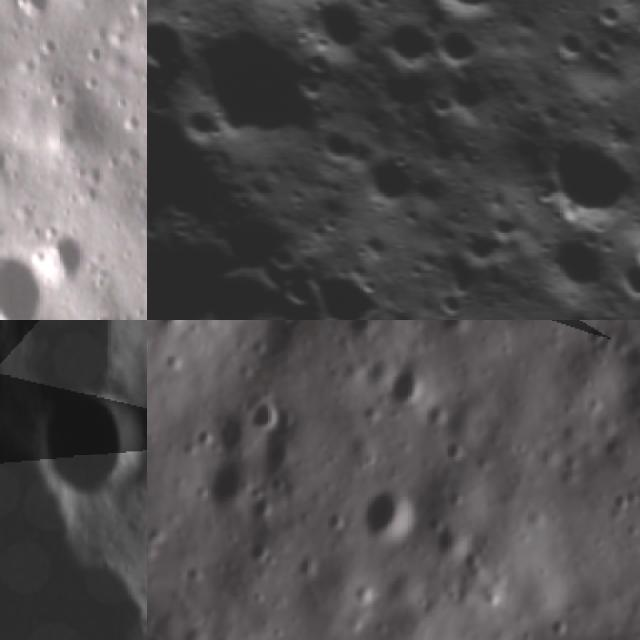crater: (0, 434, 147, 640), (170, 0, 341, 165), (28, 381, 147, 518), (525, 112, 640, 241), (523, 209, 628, 314), (9, 320, 132, 390), (421, 43, 509, 131), (285, 0, 390, 73), (294, 253, 395, 320), (363, 45, 442, 123), (353, 139, 431, 217), (366, 5, 441, 78), (308, 104, 379, 176), (162, 94, 231, 162), (147, 2, 200, 85), (420, 15, 485, 79), (534, 10, 599, 73), (452, 217, 516, 280), (358, 481, 420, 544), (269, 259, 327, 318), (414, 0, 520, 32), (0, 243, 42, 320), (204, 450, 257, 510), (383, 357, 435, 411), (29, 238, 88, 282), (601, 245, 640, 311), (433, 520, 474, 562), (248, 393, 284, 435), (589, 0, 635, 32), (263, 435, 300, 473), (620, 221, 640, 278), (444, 435, 474, 472), (8, 0, 45, 26), (629, 0, 640, 43), (153, 320, 196, 329), (104, 311, 135, 320)
